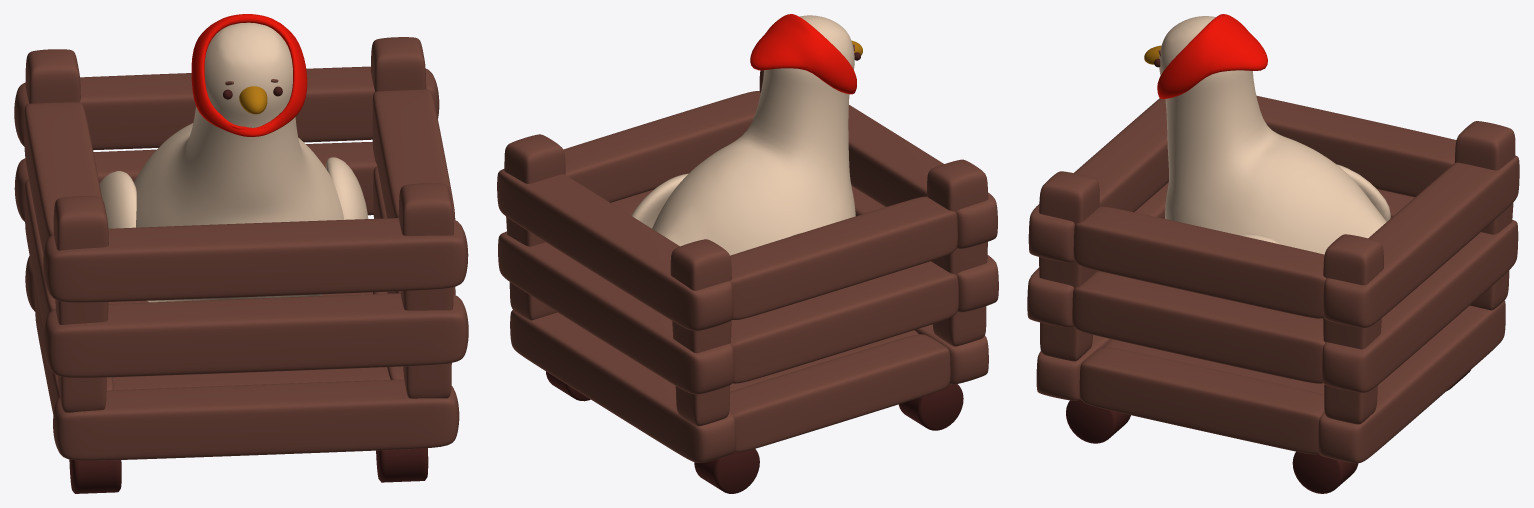
The model's file is Duck2.fbx.
The picture shows the model from 3 angles, left to right: view 1: azimuth 30°, elevation 25°; view 2: azimuth 150°, elevation 25°; view 3: azimuth 270°, elevation 25°; orthographic projection. The views are drawn at different scales.
Parts seen in each view (by area): view 1: nong; view 2: nong; view 3: nong.
Boxes of the visible parts, x1,y1,x2,y2 form: nong: (14, 14, 468, 493); nong: (497, 14, 998, 493); nong: (1027, 14, 1519, 493).
Size of the model in its own units: 48.82 by 42.63 by 49.3.
